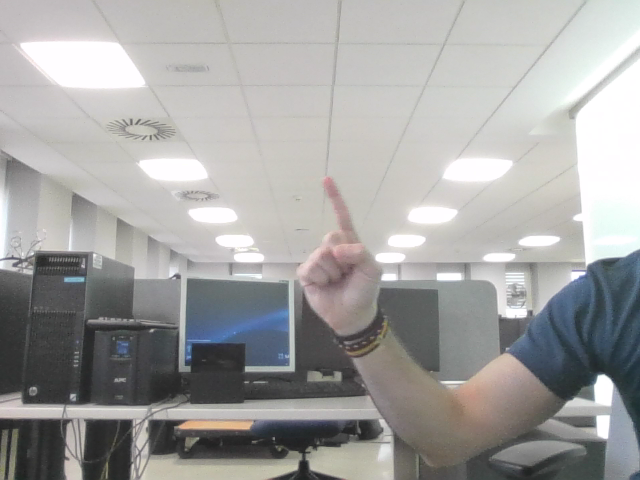1Dedo: (310, 188, 368, 290)
